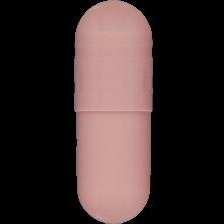43063-571: (0, 0, 224, 224)
